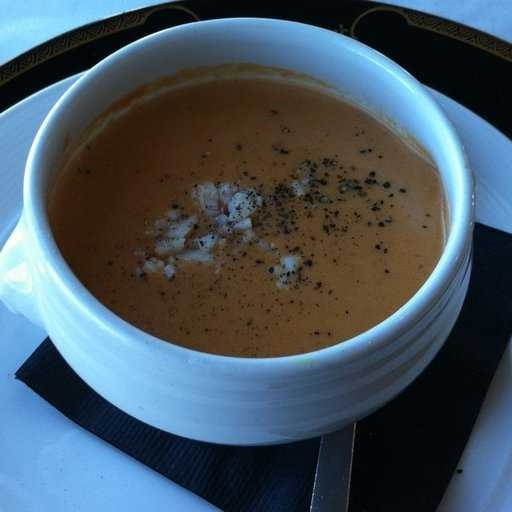soup: (21, 51, 464, 372)
